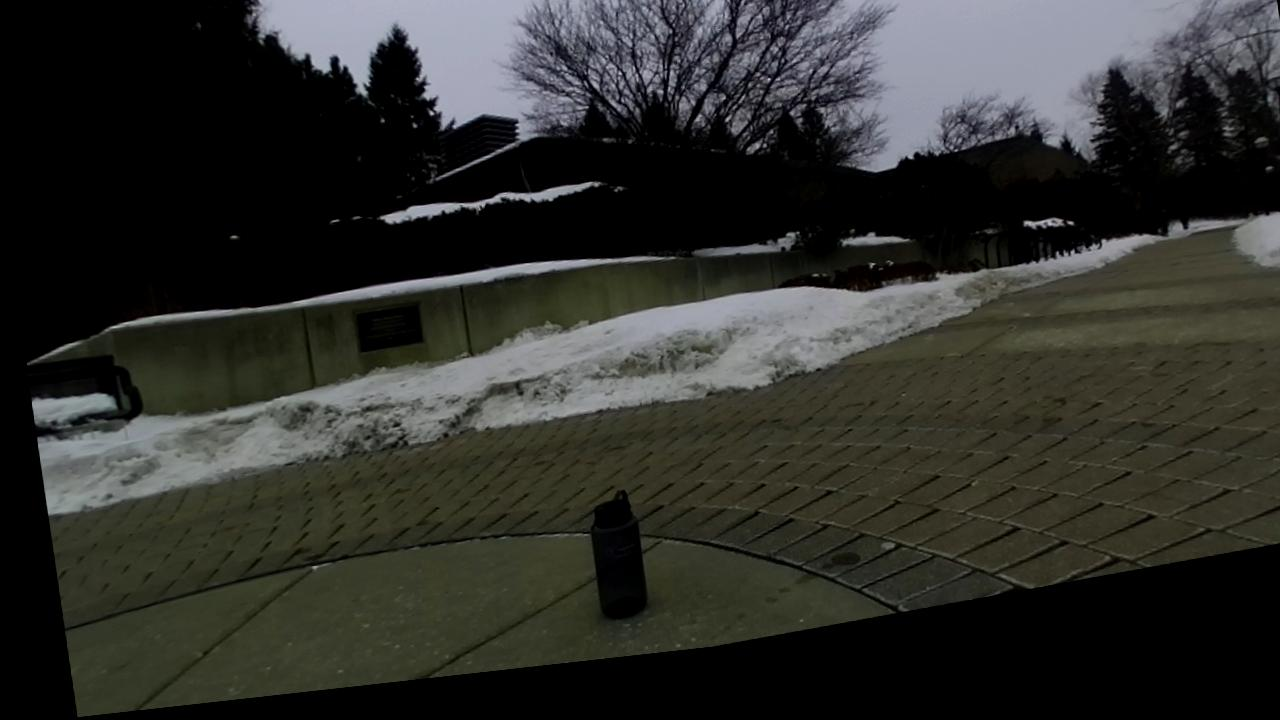bottle: (590, 490, 646, 616)
